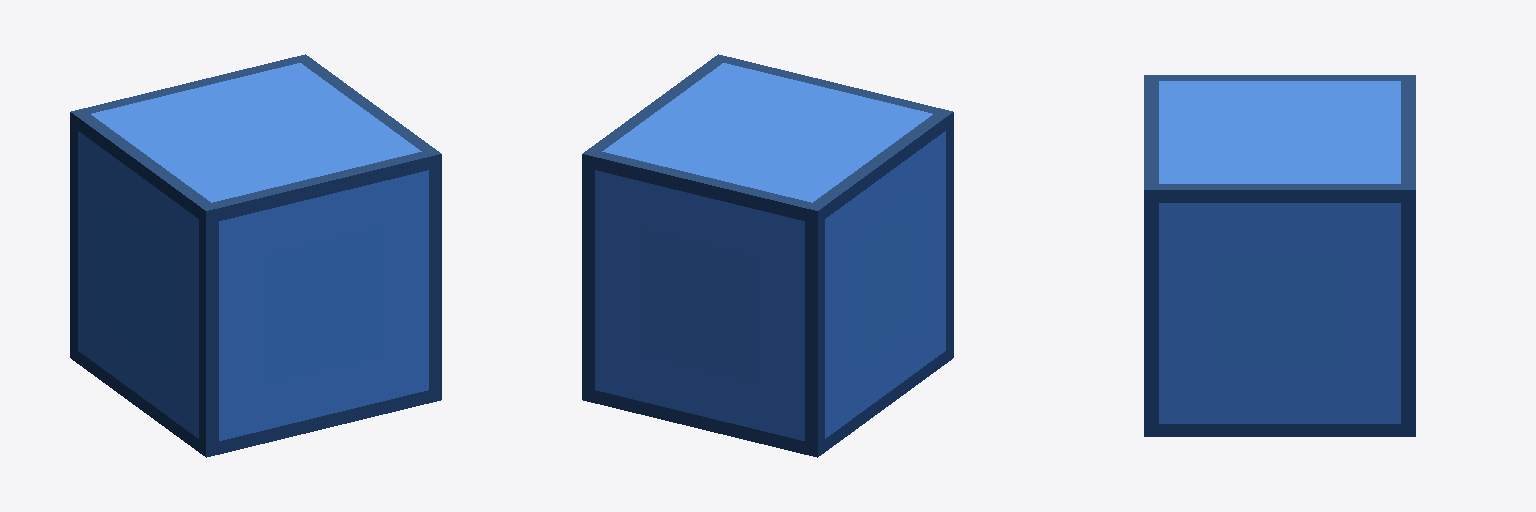
The picture shows the model from 3 angles: view 1: azimuth 30°, elevation 25°; view 2: azimuth 150°, elevation 25°; view 3: azimuth 270°, elevation 25°; orthographic projection.
Parts seen in each view (by area): view 1: a02a6239_CMDL; view 2: a02a6239_CMDL; view 3: a02a6239_CMDL.
Boxes of the visible parts, box(x1,y1,x2,y2) form: a02a6239_CMDL: box(70, 54, 441, 457); a02a6239_CMDL: box(582, 54, 953, 457); a02a6239_CMDL: box(1144, 75, 1415, 436).
Bounding box in the file's own units: 1 × 1 × 1.
Materials: 3 (3 with a texture image).